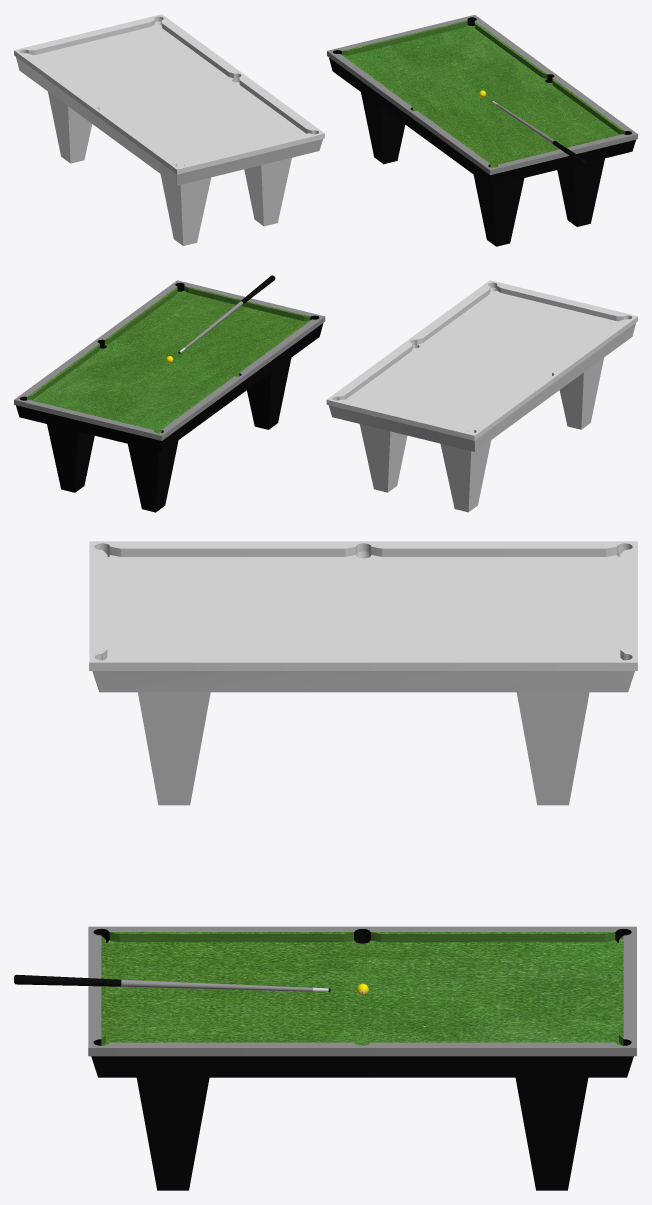
Rendered from pool_1.fbx.
3 renders of one model, top to bottom at view 1: azimuth 30°, elevation 25°; view 2: azimuth 150°, elevation 25°; view 3: azimuth 270°, elevation 25°, orthographic. The views are drawn at different scales.
Parts seen in each view (by area): view 1: pool_table, pool_table_1, pool_cue; view 2: pool_table, pool_table_1, pool_cue; view 3: pool_table, pool_table_1, pool_cue.
Part boxes in pixels (<box>): pool_table: <box>14,14,324,245</box>; pool_table_1: <box>327,15,637,246</box>; pool_cue: <box>491,100,587,165</box>; pool_table: <box>326,280,637,512</box>; pool_table_1: <box>14,280,325,512</box>; pool_cue: <box>178,275,275,353</box>; pool_table: <box>89,541,637,805</box>; pool_table_1: <box>88,926,636,1190</box>; pool_cue: <box>14,974,330,992</box>.
Size of what is drawn, in the model's own units: 40.86 by 14.8 by 28.51.
